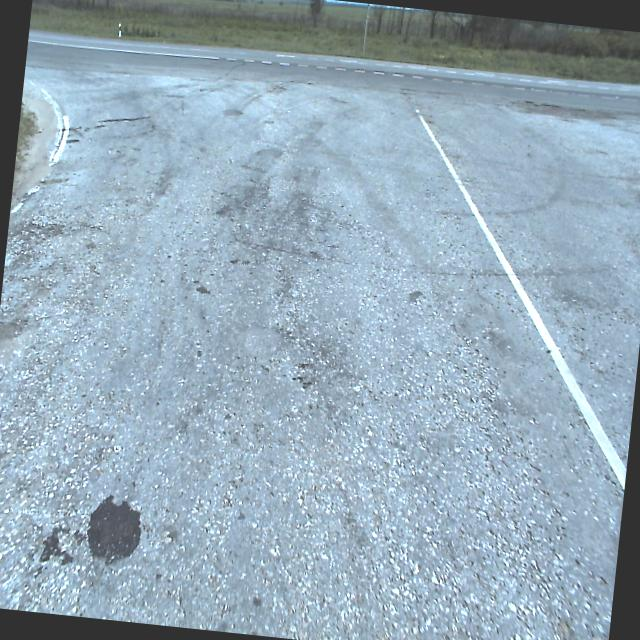road: (0, 27, 640, 640)
